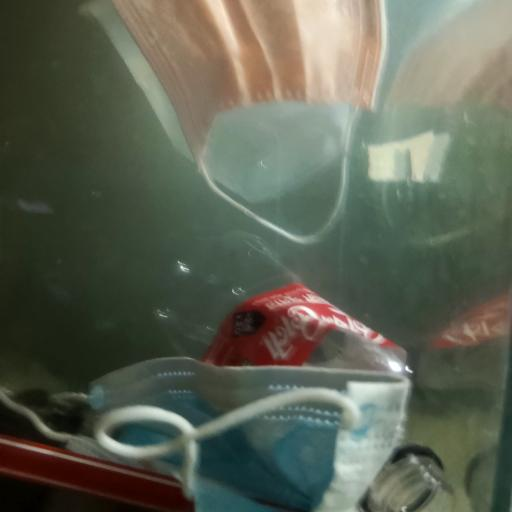mask: (109, 0, 383, 244), (3, 355, 410, 512)
plastic_bottle: (153, 228, 460, 512)
plastic_straw: (0, 432, 191, 512)
